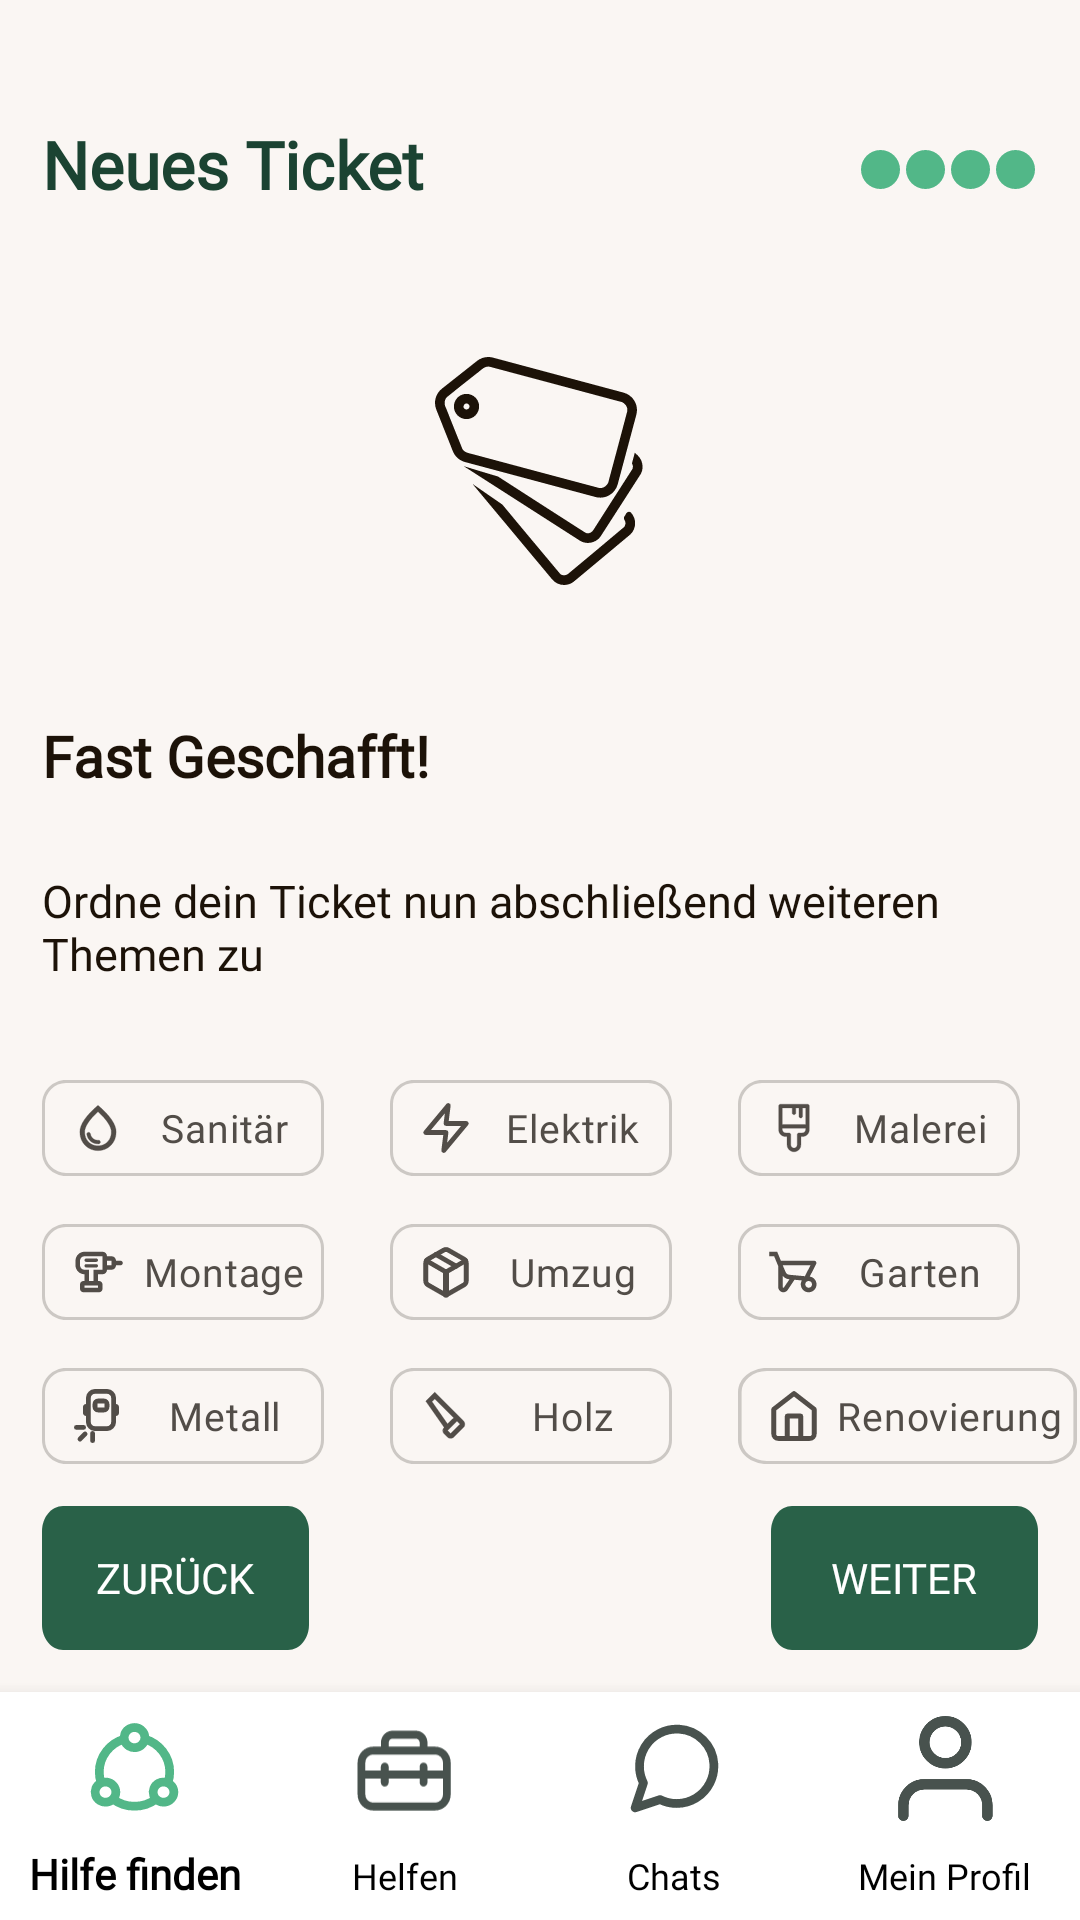

Icons on this 1080w x 1920h Android screen, each with the point to tap as point (x, y):
ticket progress: point (948, 169)
ticket taggen: point (539, 471)
